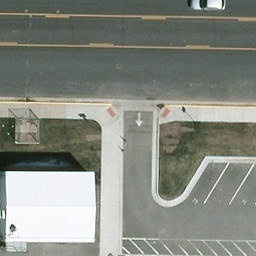car: (189, 0, 226, 10)
